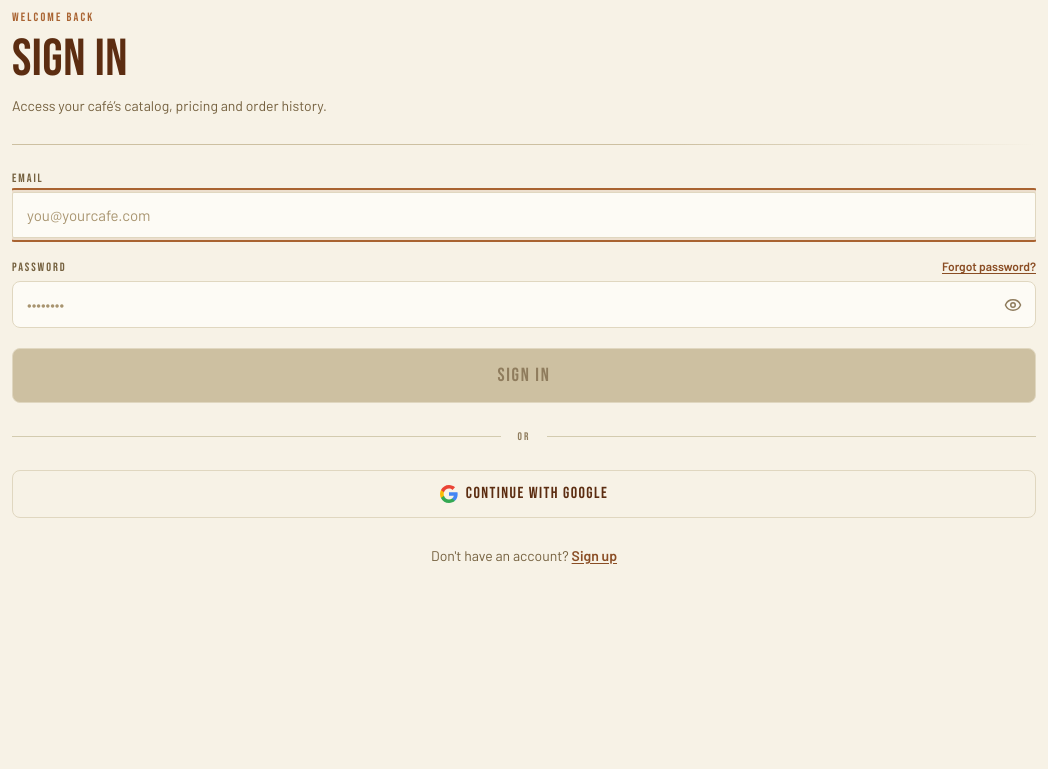
Test: LoginForm — email sign-in › rejects a weak password on sign-up with a server error
Click the button "Don't have an account? Sign up".
click(524, 556)  # box x1=12 y1=546 x2=1036 y2=566
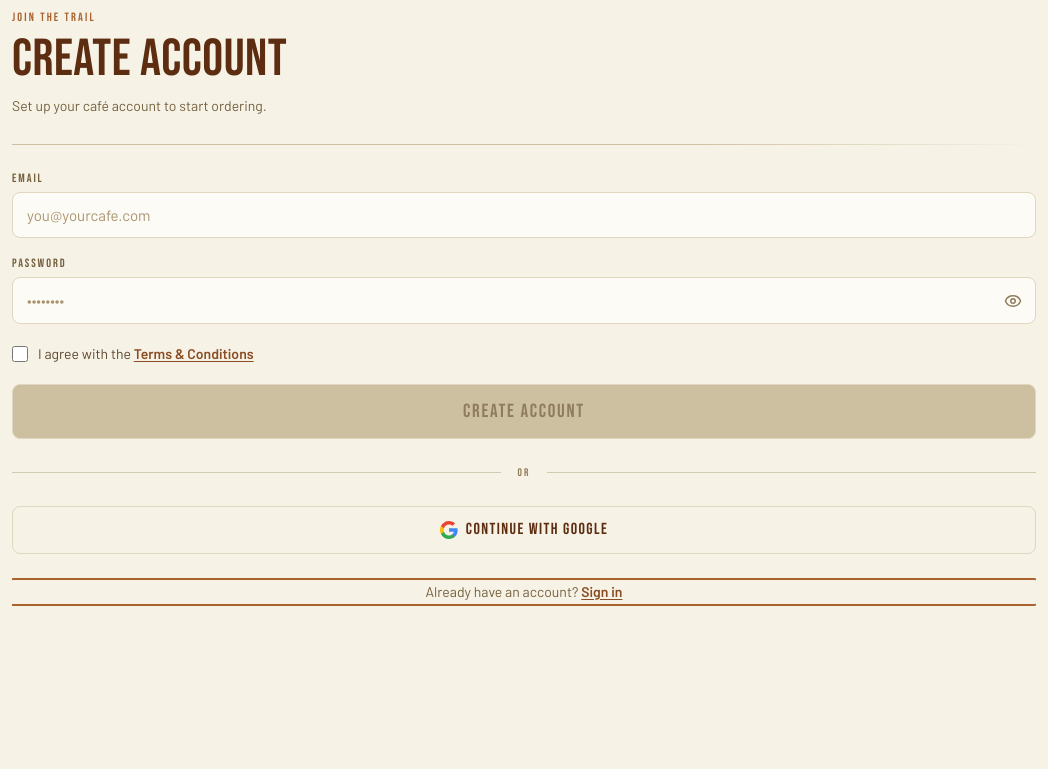
Type "new@example.com" into the field labelled "Email".
click(524, 215); type("new@example.com")  # box x1=12 y1=192 x2=1036 y2=238
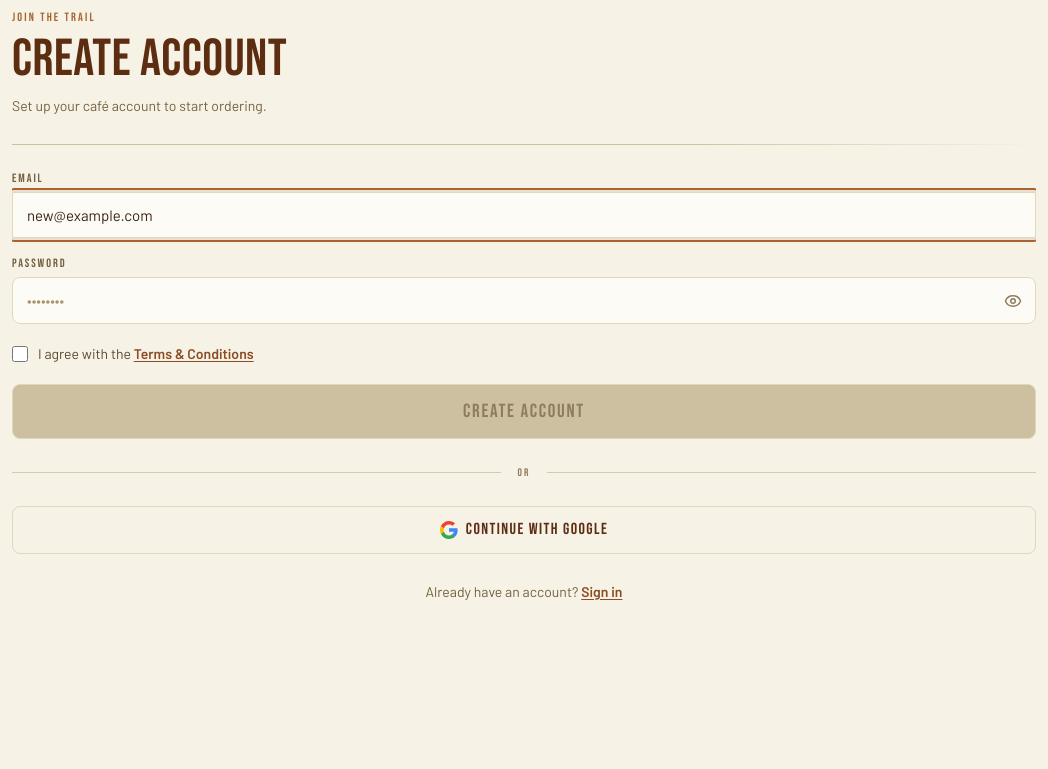
Type "lowercaseonly" into the password field labelled "Password".
click(524, 301); type("lowercaseonly")  # box x1=12 y1=277 x2=1036 y2=324
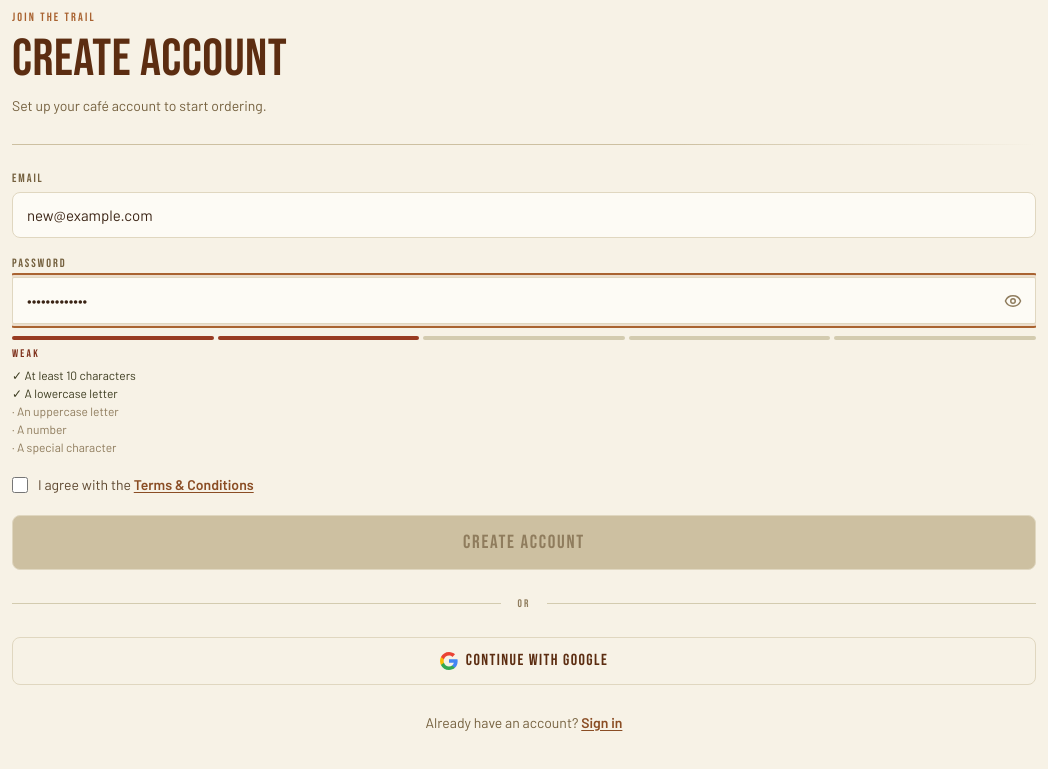
Click the checkbox.
click(20, 485)  # box x1=12 y1=477 x2=28 y2=493
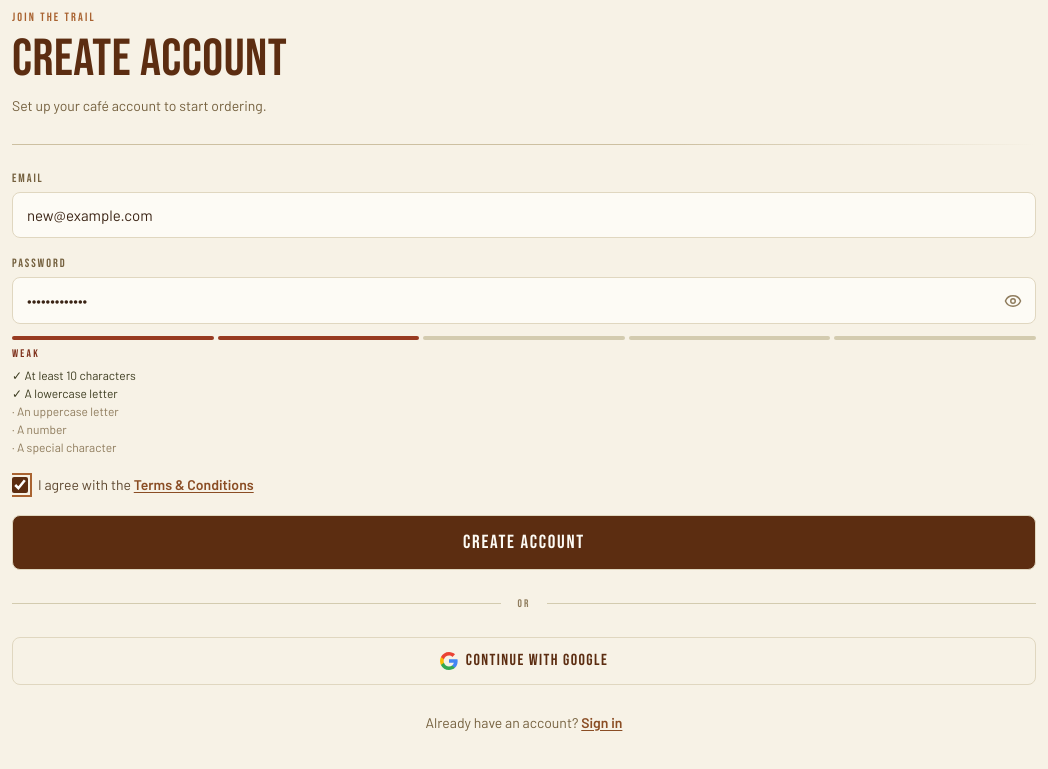
Click the button "Create account".
click(524, 542)  # box x1=12 y1=515 x2=1036 y2=570
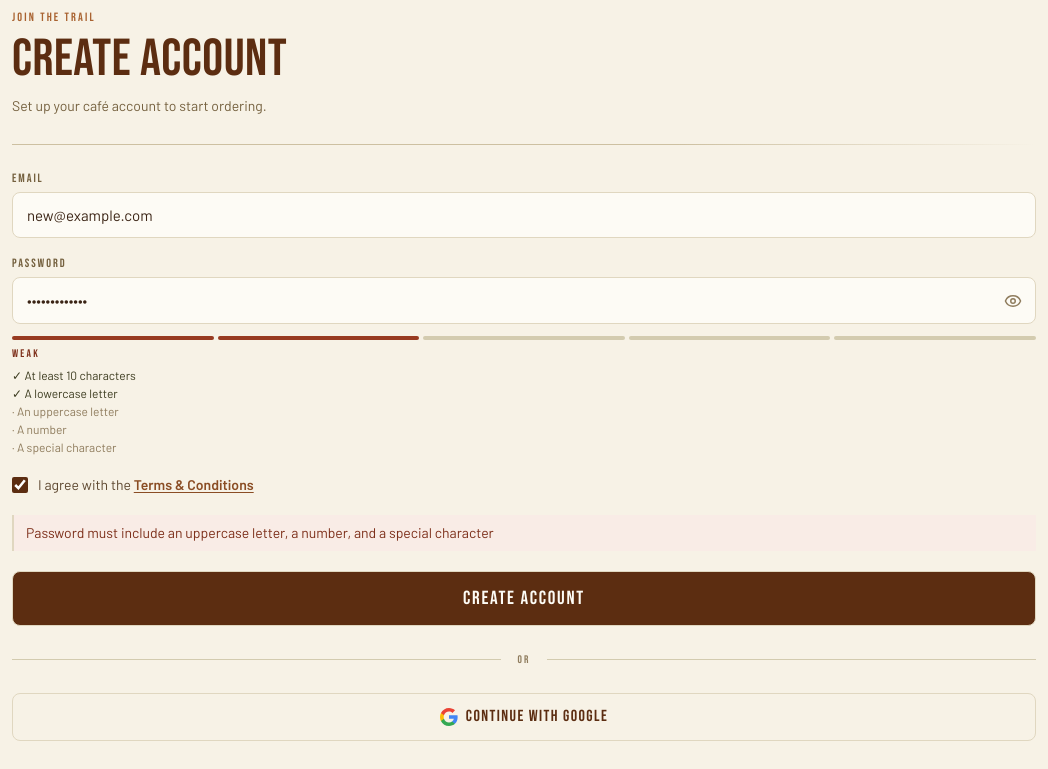
Expected: the text "Password must include an uppercase letter" is shown, x1=26 y1=524 x2=494 y2=541
